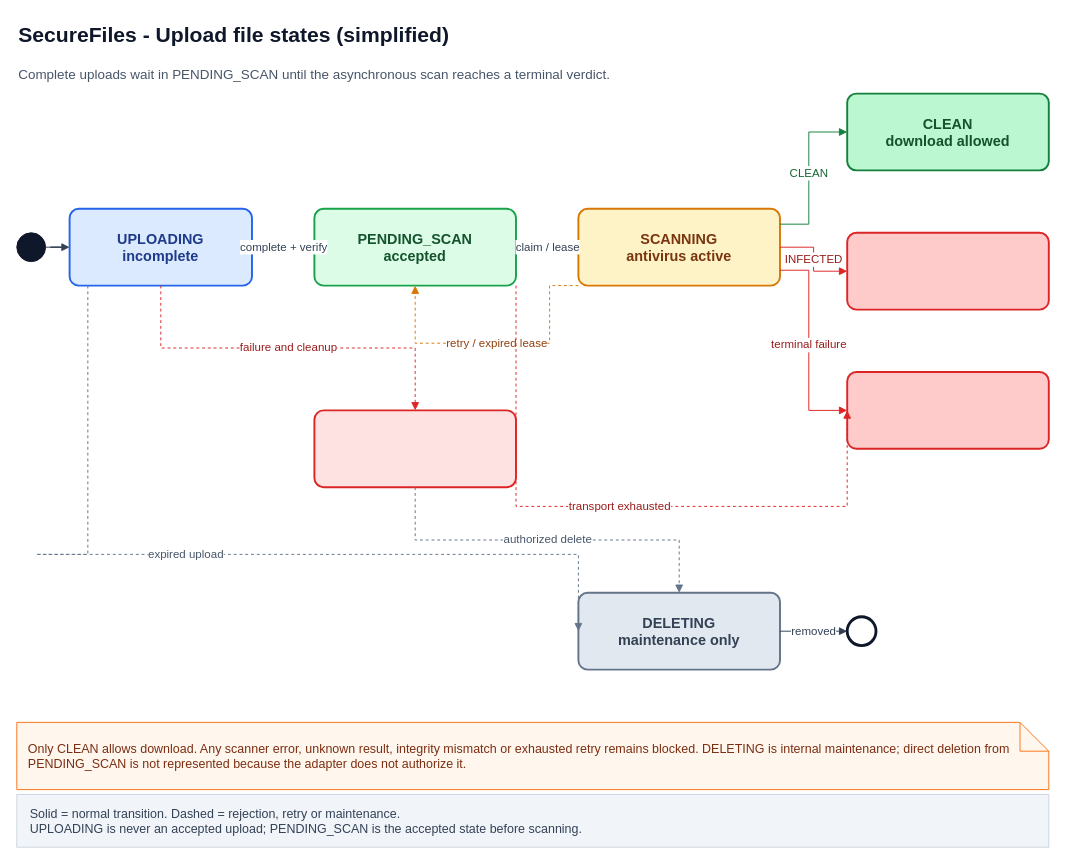
This 1067x864 diagram has some shape labels left out. Each missing label, with the box of its shape:
INFECTED blocked: (846, 231, 1049, 310)
REJECTED upload failed: (313, 409, 516, 488)
SCAN_FAILED blocked: (846, 371, 1049, 449)
